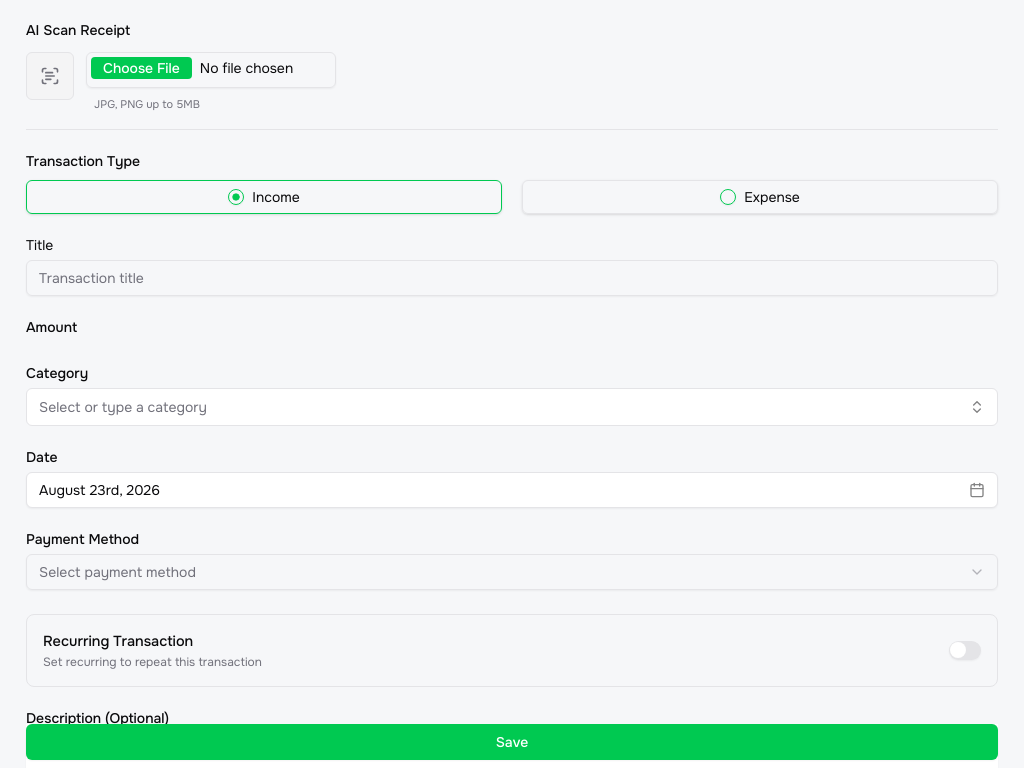
it: TransactionForm › toggles the frequency field when recurring is enabled and clears it when disabled
Expected: the text "Frequency" is not shown
Click the switch. click: [965, 650]
box: [949,641,981,660]
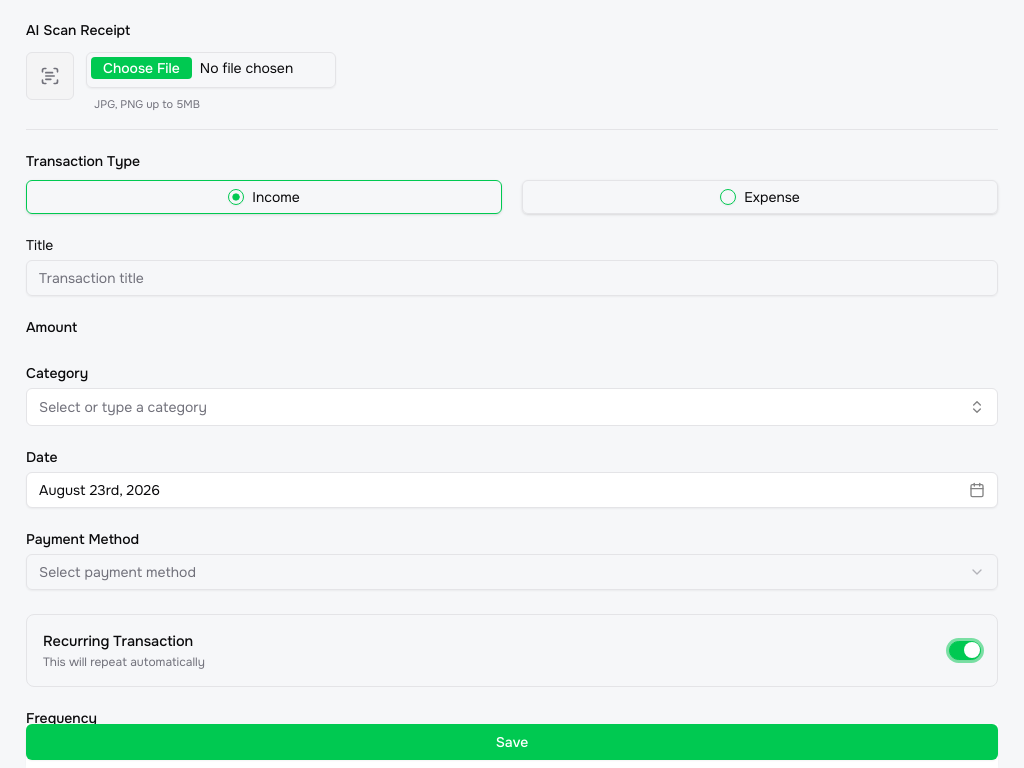
Now the text "Frequency" is shown, box [26,709,97,727]
Now the text "This will repeat automatically" is shown, box [43,654,205,670]
Click the switch. click: [965, 650]
box: [949,641,981,660]
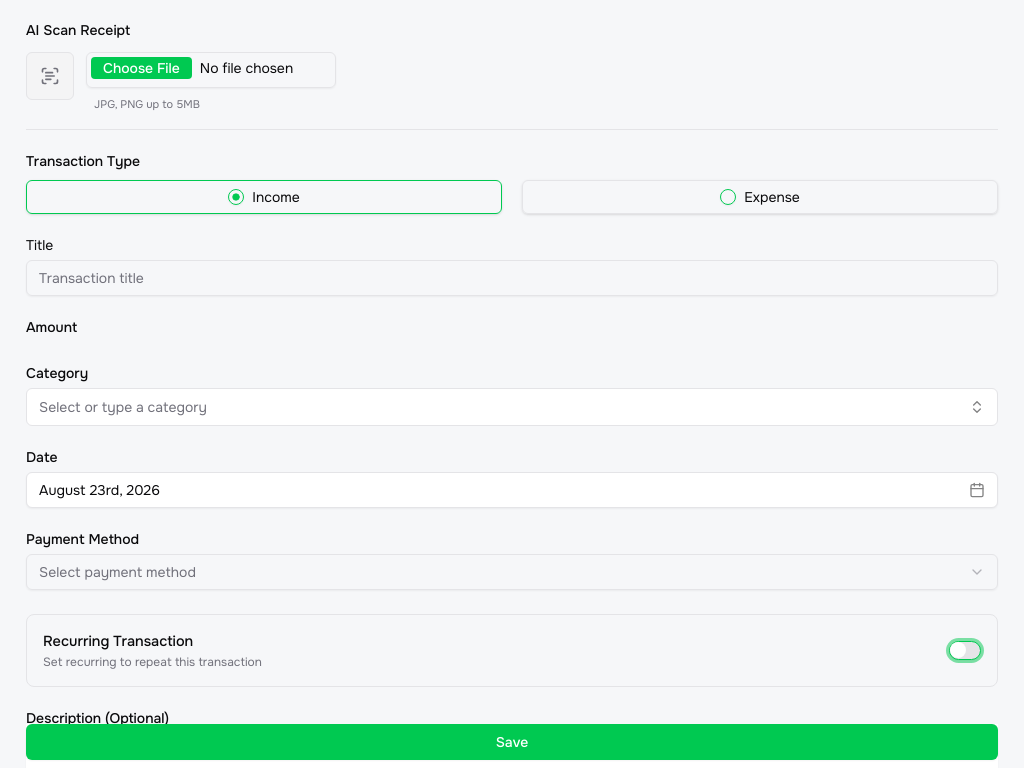
Now the text "Frequency" is gone
